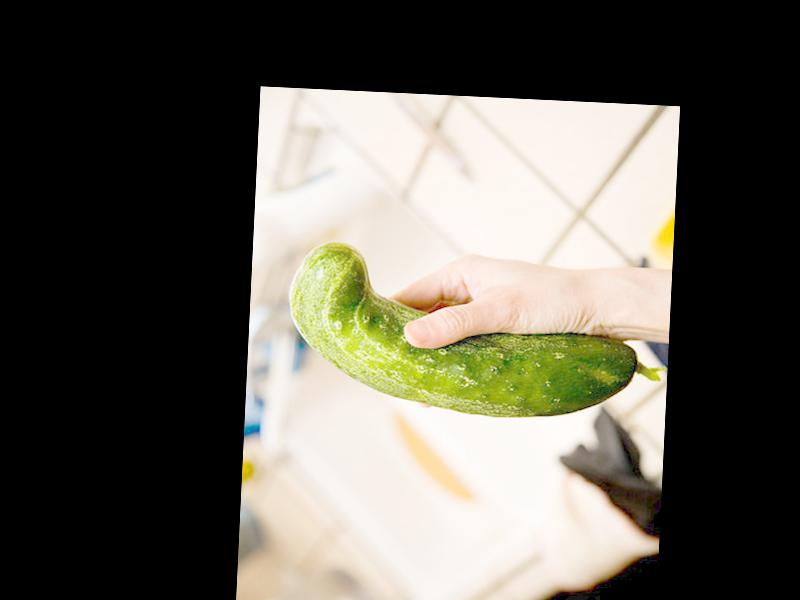Cucumber: (283, 240, 666, 425)
